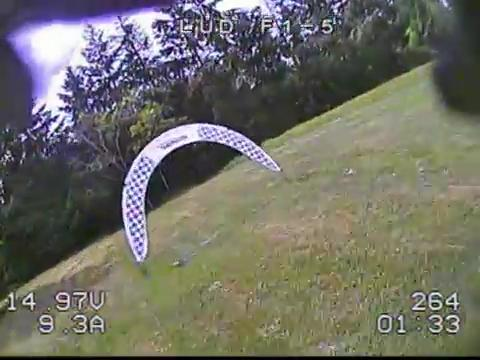gate: (120, 122, 283, 262)
